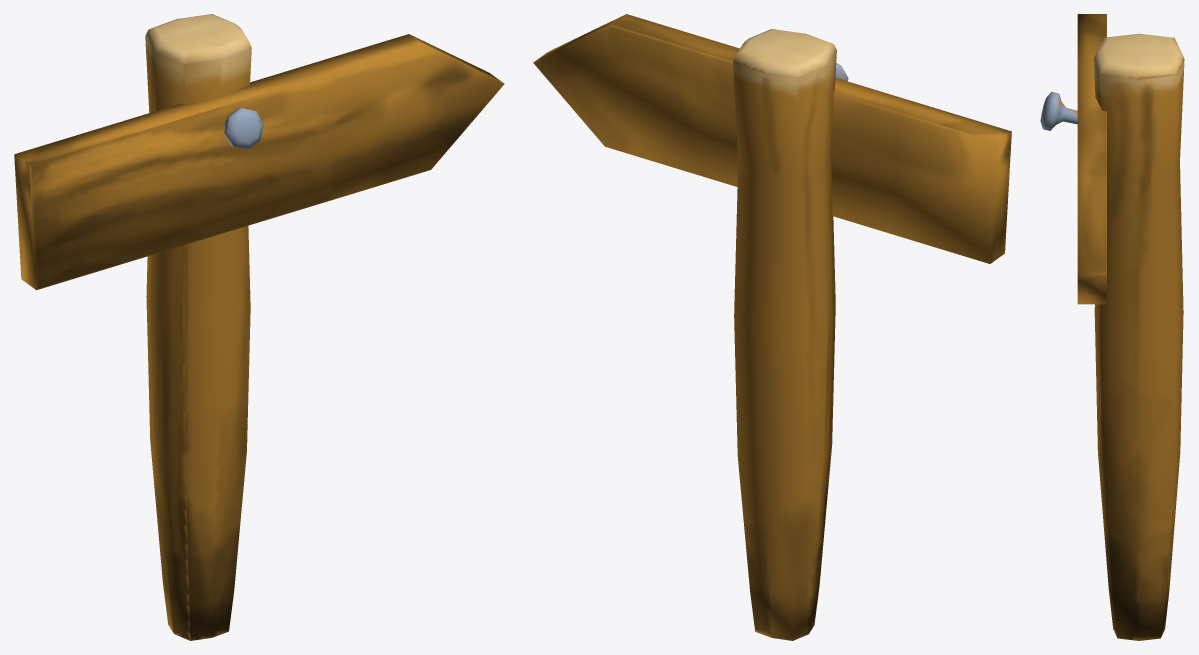
The model's file is WoodenSign2-optimized.glb.
3 renders of one model, left to right at view 1: azimuth 30°, elevation 25°; view 2: azimuth 150°, elevation 25°; view 3: azimuth 270°, elevation 25°, orthographic. The views are drawn at different scales.
Visible parts, largest first — view 1: Cube.009; view 2: Cube.009; view 3: Cube.009.
Boxes of the visible parts, left/top/right/bottom form: Cube.009: left=14, top=14, right=504, bottom=640; Cube.009: left=533, top=14, right=1011, bottom=640; Cube.009: left=1040, top=14, right=1184, bottom=640.
Bounding box in the file's own units: 0.701 × 0.8393 × 0.1893.
1 material, 1 textured.
